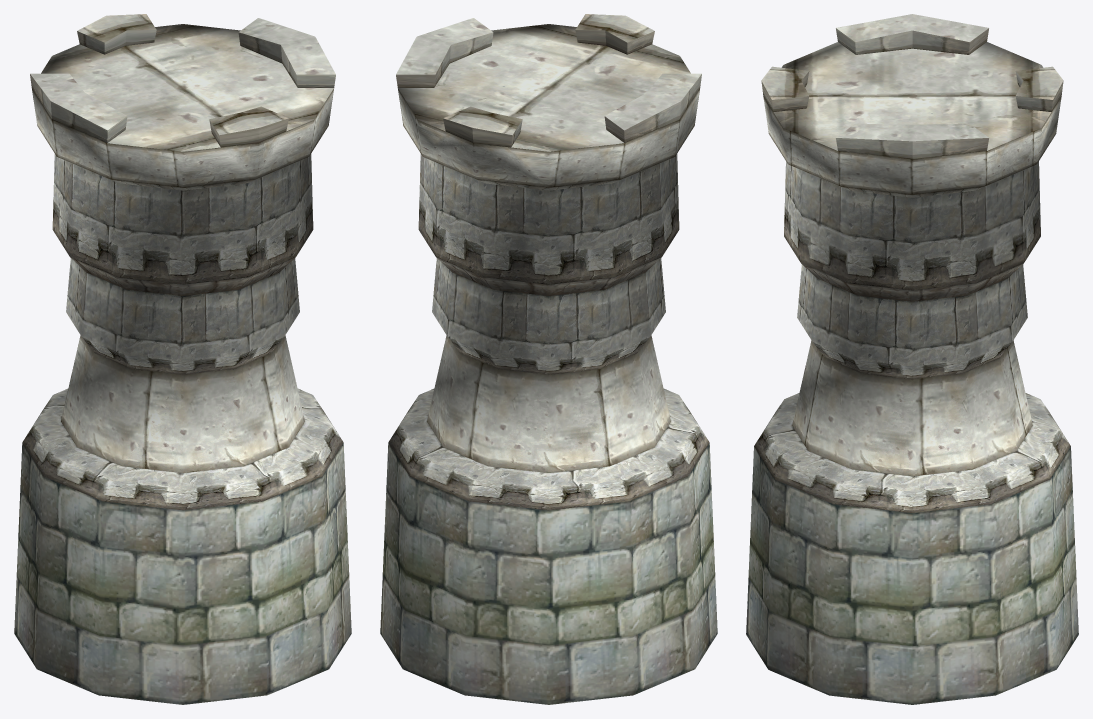
File: wallpost01.glb
The picture shows the model from 3 angles, left to right: view 1: azimuth 30°, elevation 25°; view 2: azimuth 150°, elevation 25°; view 3: azimuth 270°, elevation 25°; orthographic projection.
Bounding box in the file's own units: 20.93 × 38.66 × 20.93.
4 materials, 4 textured.
